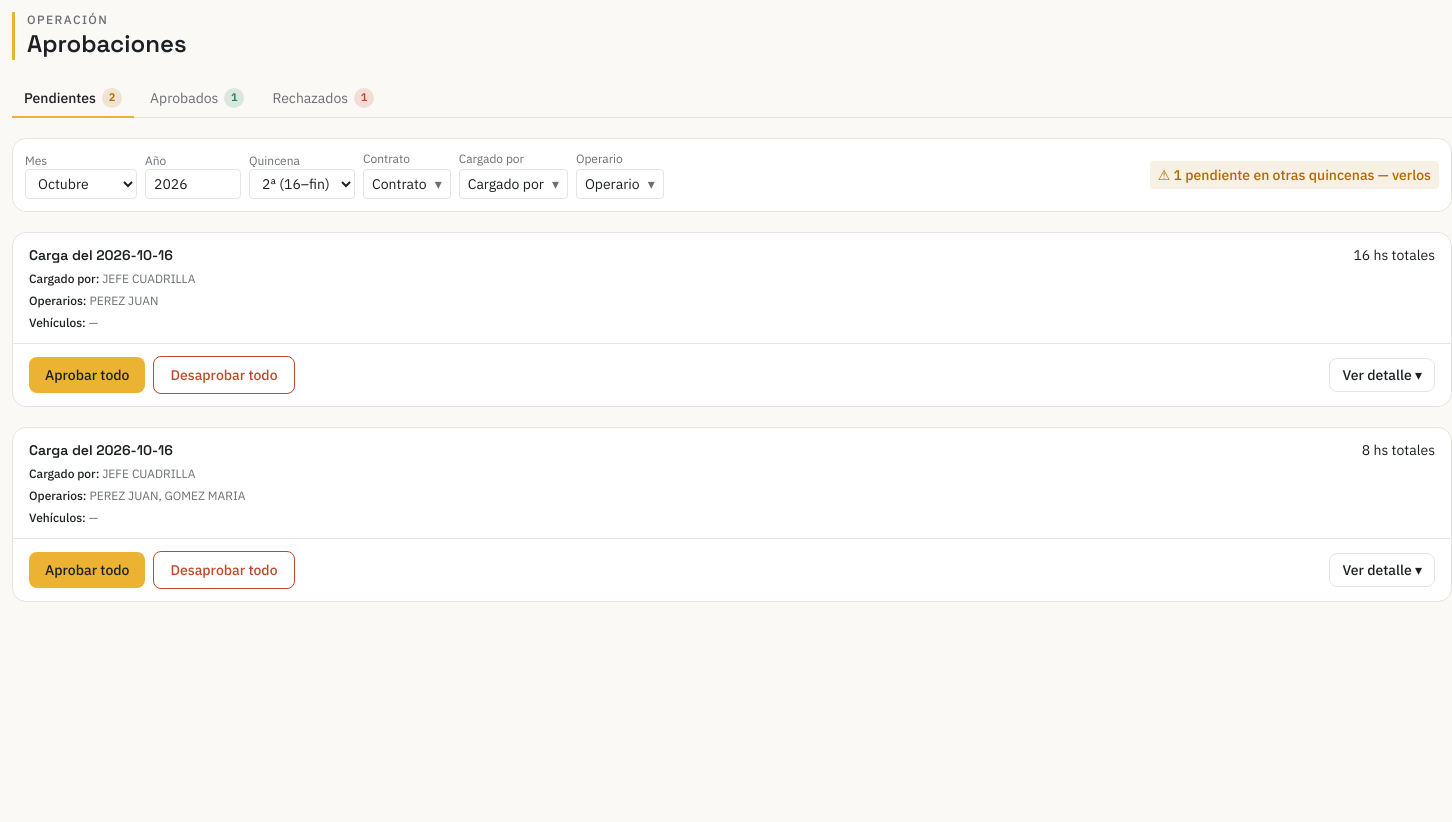
Scenario: AprobacionesPage › en Pendientes avisa cuántos pendientes hay fuera de la quincena y el aviso los muestra al clickearlo
The width and height of the screenshot is (1452, 822).
Step 1. Click the button "⚠ 1 pendiente en otras quincenas — verlos" → (1294,175), box [1150,161,1439,189]
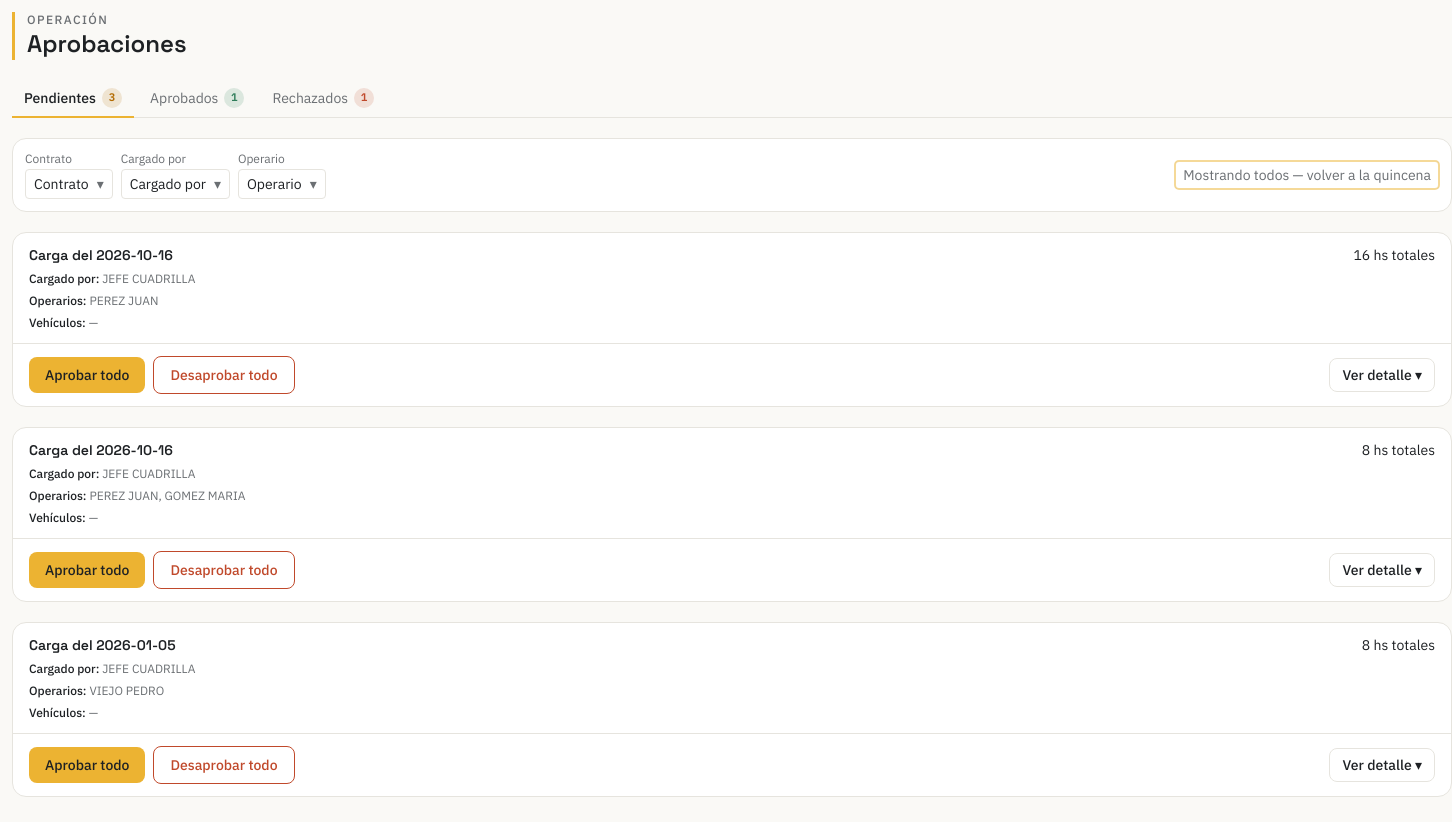
Result: the text "VIEJO PEDRO" is shown at [89,683,164,698]
Note: Volver al filtro de quincena
Step 2. Click the button "Mostrando todos — volver a la quincena" → (1307,175), box [1175,161,1439,189]
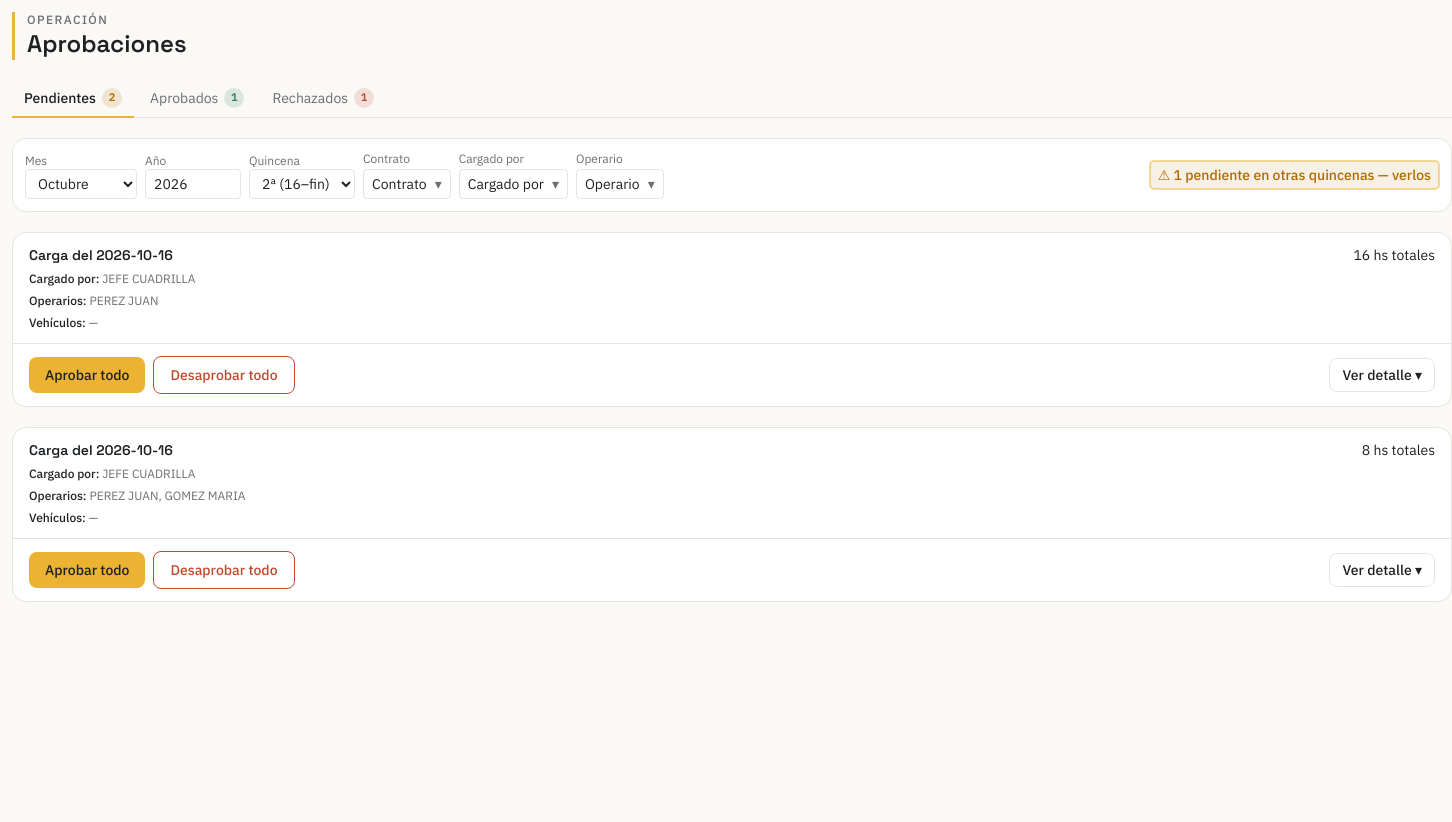
Result: the text "VIEJO PEDRO" is gone
